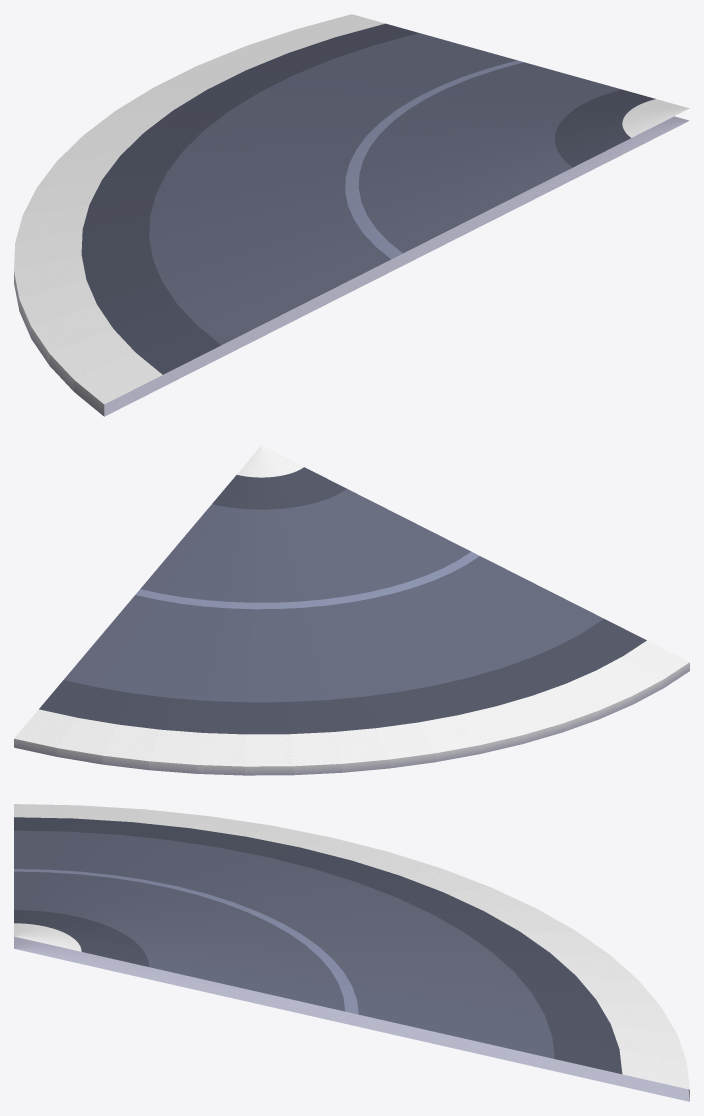
The model's file is road-Turn-HalfBankedLeft-HalfBankedLeft-Even-Right-Size1.glb.
3 views of the same model, one above another, from view 1: azimuth 30°, elevation 25°; view 2: azimuth 150°, elevation 25°; view 3: azimuth 270°, elevation 25° (orthographic). The views are drawn at different scales.
Parts seen in each view (by area): view 1: road-Turn-HalfBankedLeft-HalfBankedLeft-Even-Right-Size1; view 2: road-Turn-HalfBankedLeft-HalfBankedLeft-Even-Right-Size1; view 3: road-Turn-HalfBankedLeft-HalfBankedLeft-Even-Right-Size1.
Part boxes in pixels (left/top/right/bottom): road-Turn-HalfBankedLeft-HalfBankedLeft-Even-Right-Size1: left=14, top=14, right=689, bottom=416; road-Turn-HalfBankedLeft-HalfBankedLeft-Even-Right-Size1: left=14, top=445, right=689, bottom=775; road-Turn-HalfBankedLeft-HalfBankedLeft-Even-Right-Size1: left=14, top=804, right=689, bottom=1101.
Size of the model in its own units: 1 by 0.27 by 1.
1 material, 1 textured.
